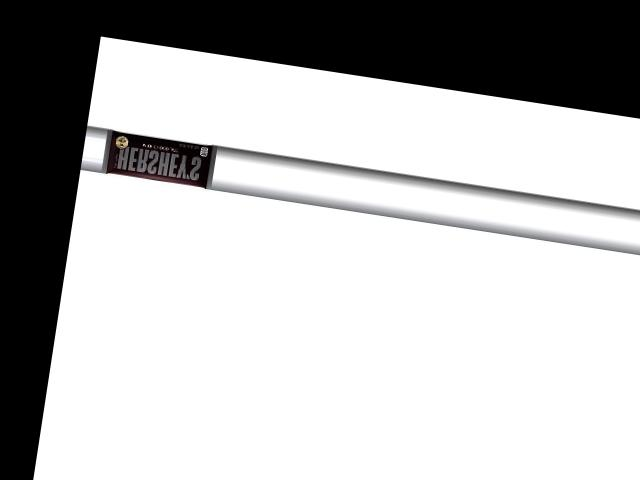chocolate: (103, 124, 218, 188)
